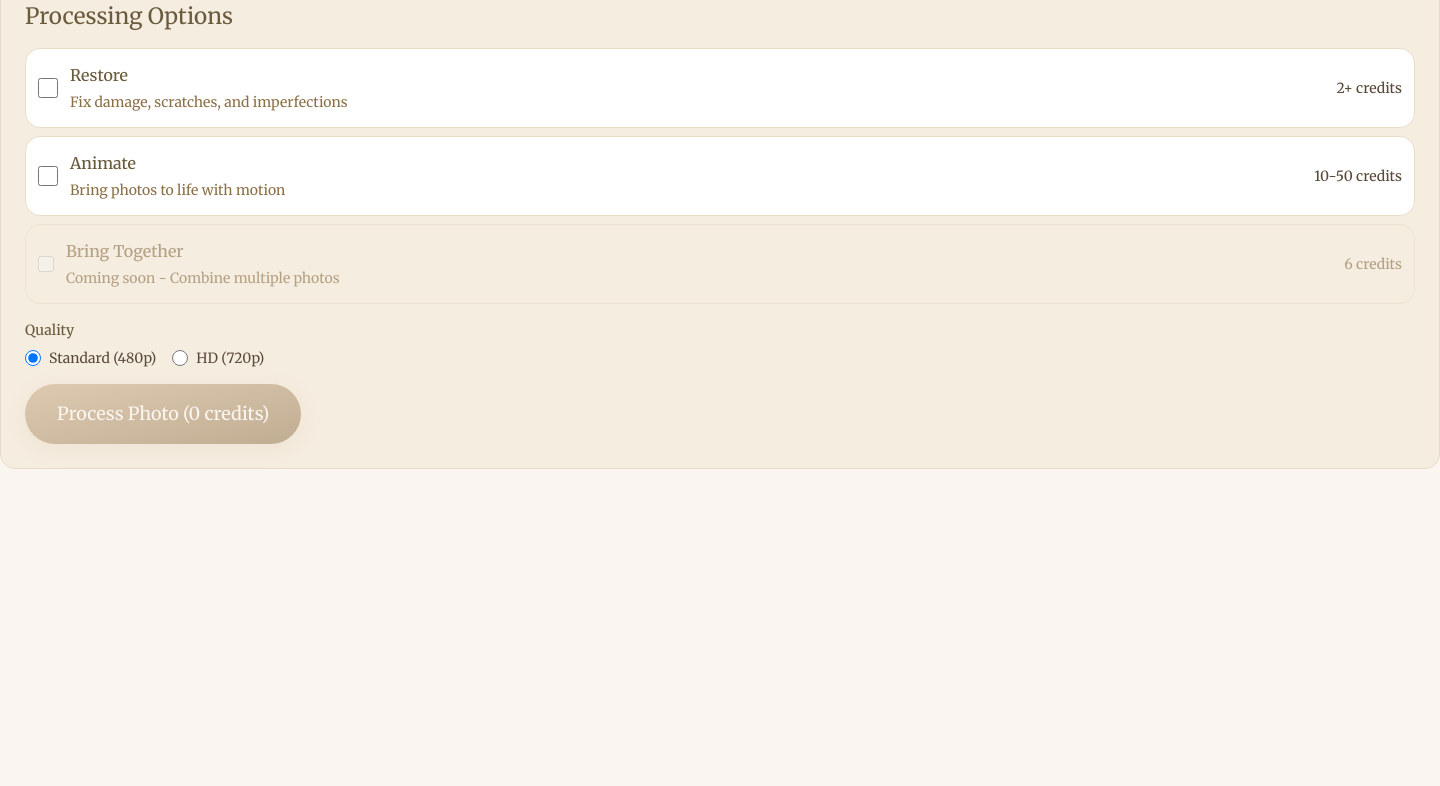
Test: ProcessingOptionsPanel › Insufficient Credits › should show insufficient credits warning
This screenshot has width=1440, height=786.
Click the checkbox labelled "Restore Fix damage, scratches, and imperfections 2+ credits" at [48, 88], box [38,78,58,98]
(page scrolled)
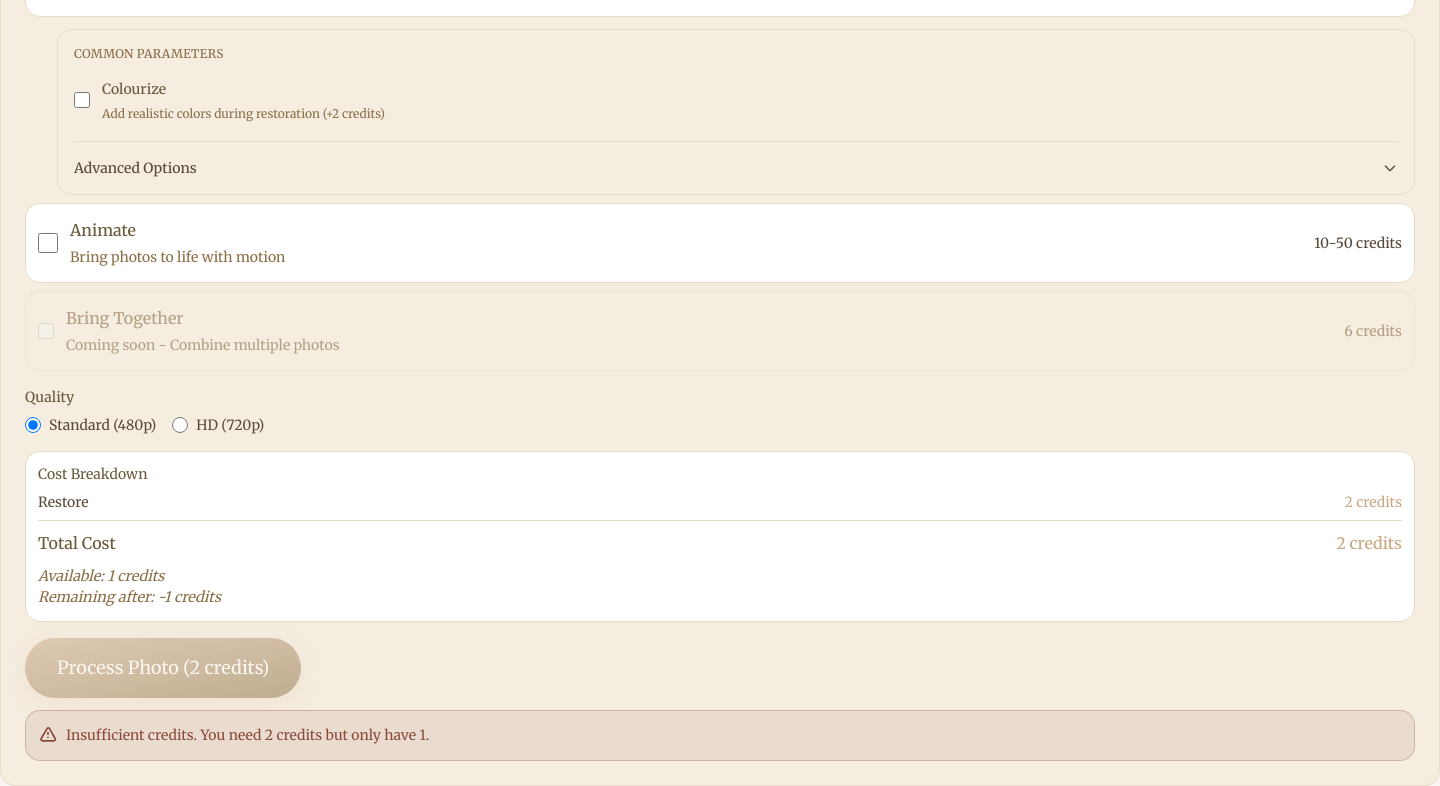
expect the text "Insufficient credits. You need 2 credits but only have 1." is shown: met, box [66,723,429,748]
